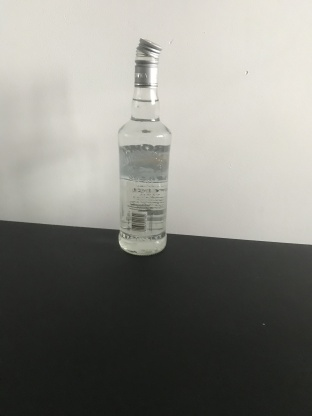nakretka: (132, 35, 163, 89)
